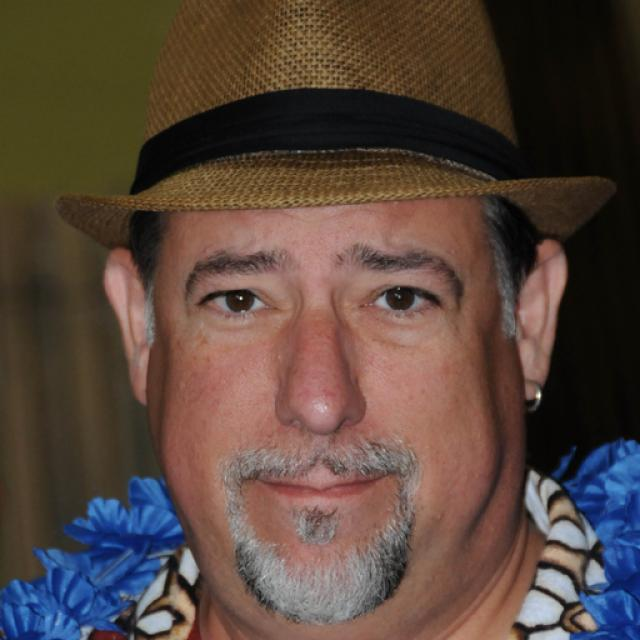content: (157, 195, 512, 625)
